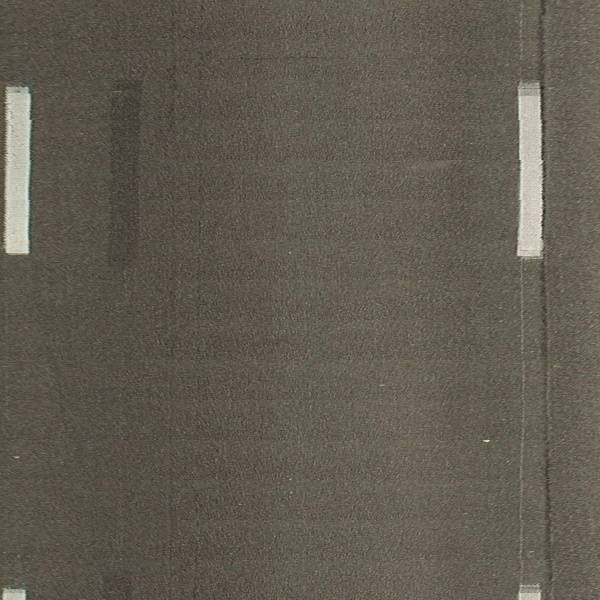road_damage: (159, 22, 188, 231), (532, 280, 559, 482)
